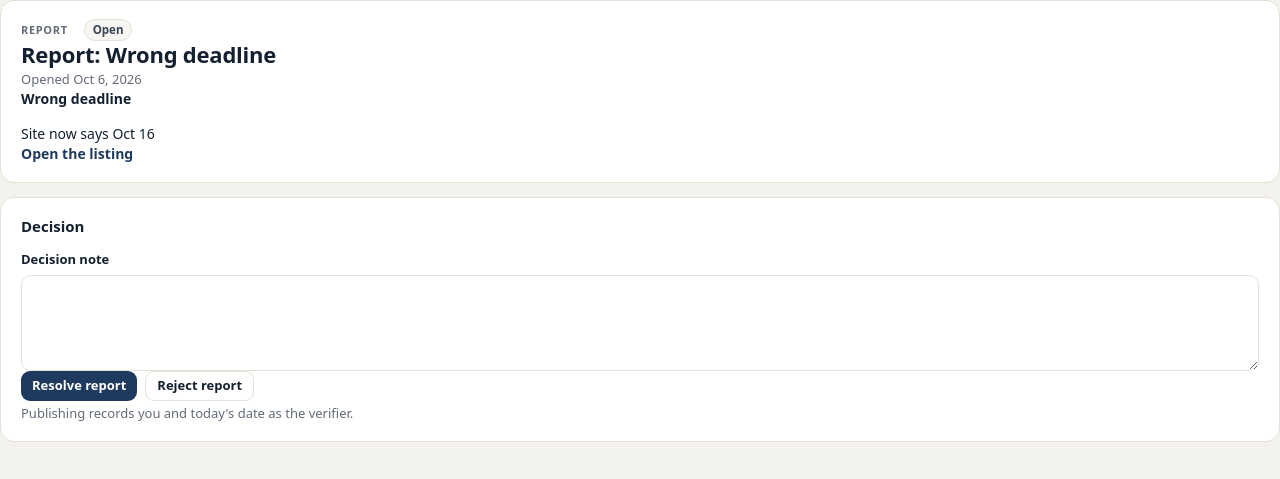
Scenario: TaskReview › resolves a report through the report endpoint
This screenshot has width=1280, height=479.
Expected: the text "Site now says Oct 16" is shown, top-left (21, 124), bottom-right (155, 142)
Type "Deadline fixed" into the text box labelled "Decision note". click: (640, 323)
box: top-left (21, 275), bottom-right (1259, 371)
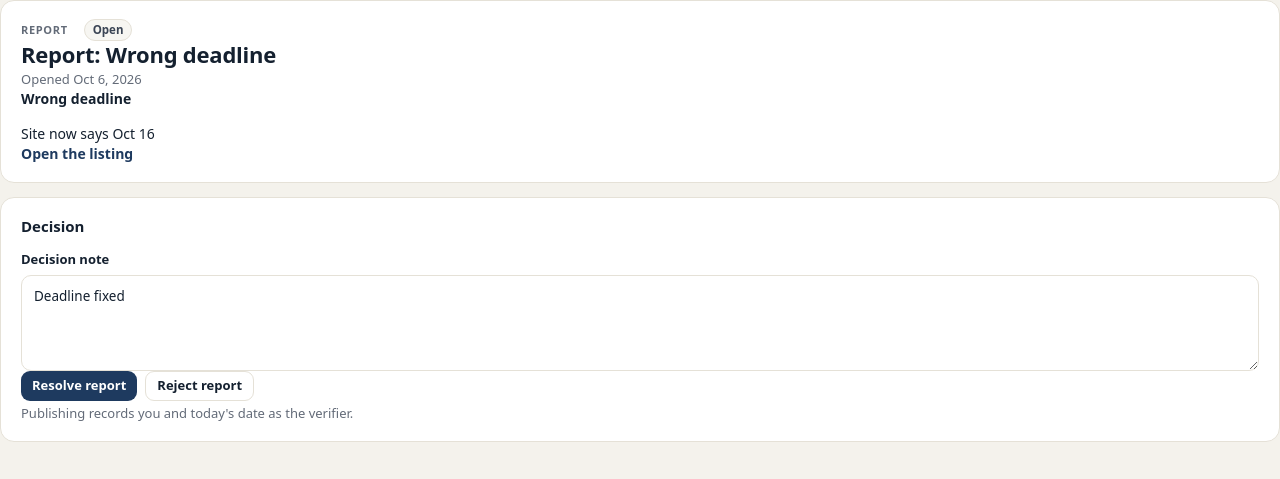
Click the button "Resolve report". click: (79, 386)
box: top-left (21, 371), bottom-right (137, 401)
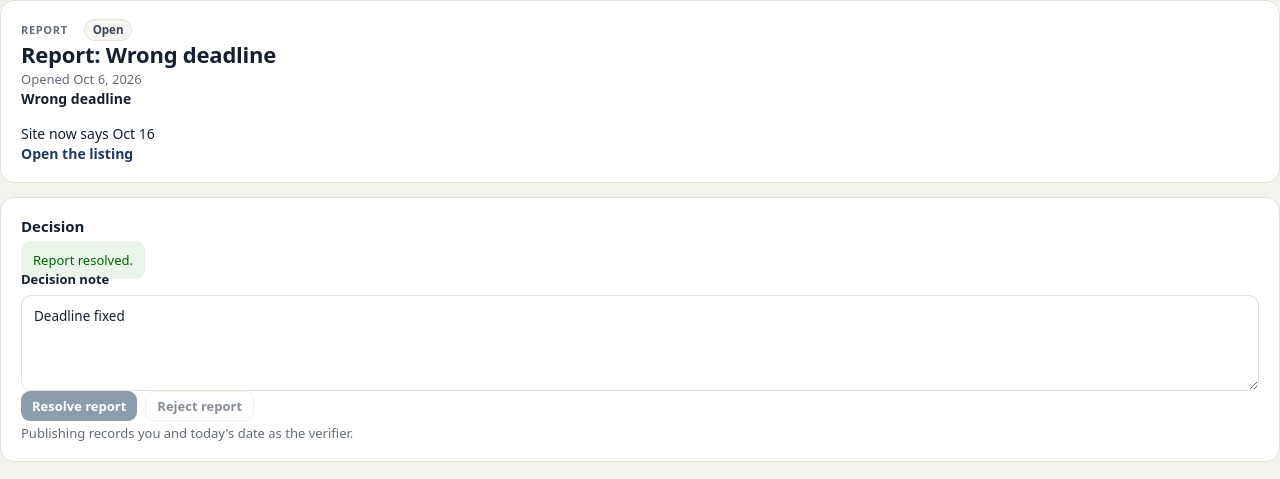
Expected: the text "Report resolved." is shown, top-left (21, 241), bottom-right (145, 279)
